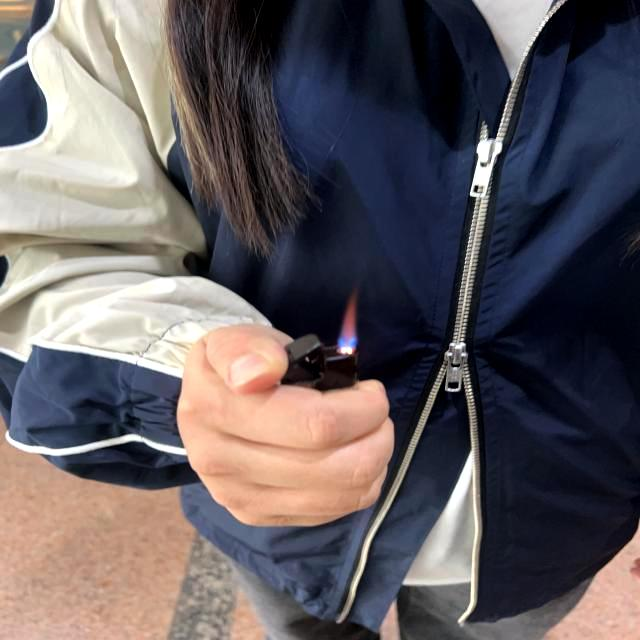fire: (337, 297, 359, 347)
